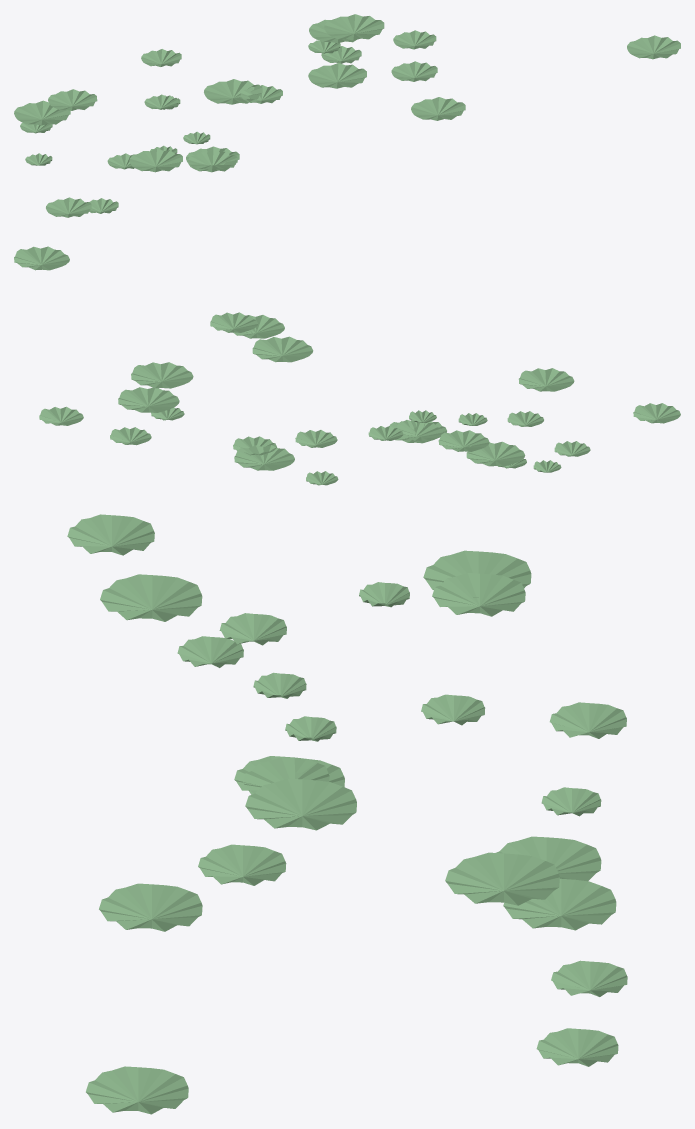
Rendered from xiyuan-vegetation-02-near.glb.
The picture shows the model from 3 angles, top to bottom: view 1: azimuth 30°, elevation 25°; view 2: azimuth 150°, elevation 25°; view 3: azimuth 270°, elevation 25°; orthographic projection. The views are drawn at different scales.
Parts seen in each view (by area): view 1: scalloped lotus leaves.001; view 2: scalloped lotus leaves.001; view 3: scalloped lotus leaves.001.
Part boxes in pixels (x1=…): scalloped lotus leaves.001: x1=14, y1=14, x2=680, y2=217; scalloped lotus leaves.001: x1=14, y1=246, x2=680, y2=485; scalloped lotus leaves.001: x1=67, y1=514, x2=627, y2=1114.
Bounding box in the file's own units: 11.14 × 0.9591 × 4.25.
